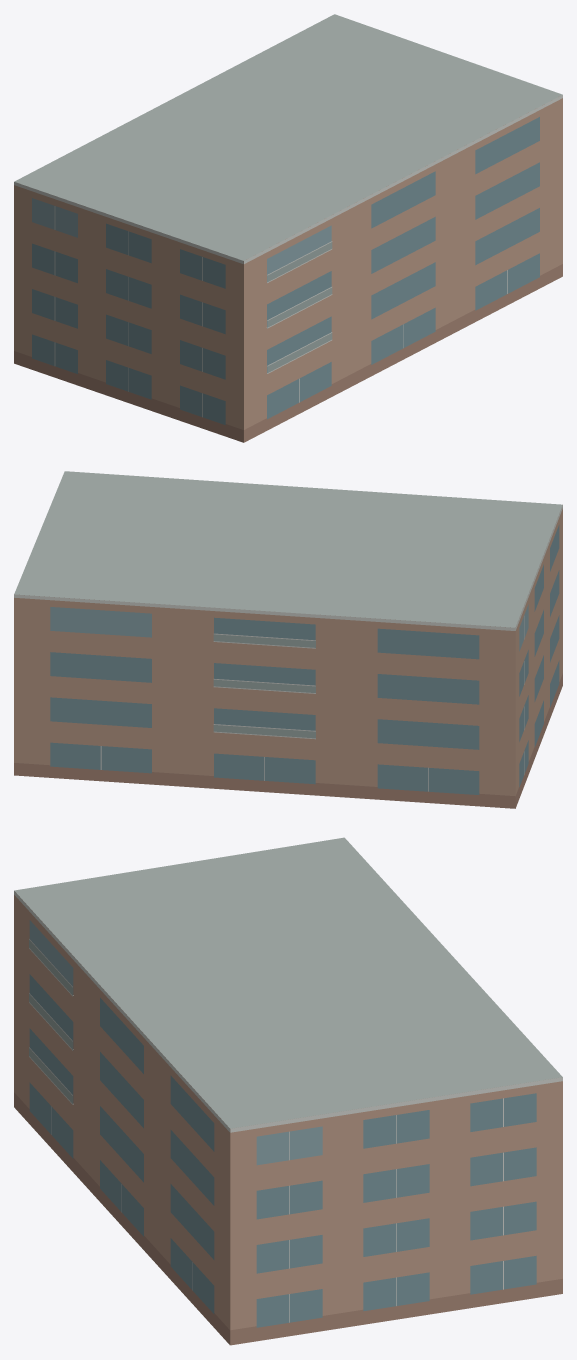
Rendered from survey-upis-32853650.glb.
3 renders of one model, top to bottom at view 1: azimuth 30°, elevation 25°; view 2: azimuth 150°, elevation 25°; view 3: azimuth 270°, elevation 25°, orthographic. The views are drawn at different scales.
Visible parts, largest first — view 1: survey-upis-32853650.tmp; view 2: survey-upis-32853650.tmp; view 3: survey-upis-32853650.tmp.
Part boxes in pixels (x1,y1,x2,y2): survey-upis-32853650.tmp: (14, 14, 562, 442); survey-upis-32853650.tmp: (14, 471, 562, 808); survey-upis-32853650.tmp: (14, 837, 562, 1345).
Bounding box in the file's own units: 37.97 × 13.17 × 30.24.
